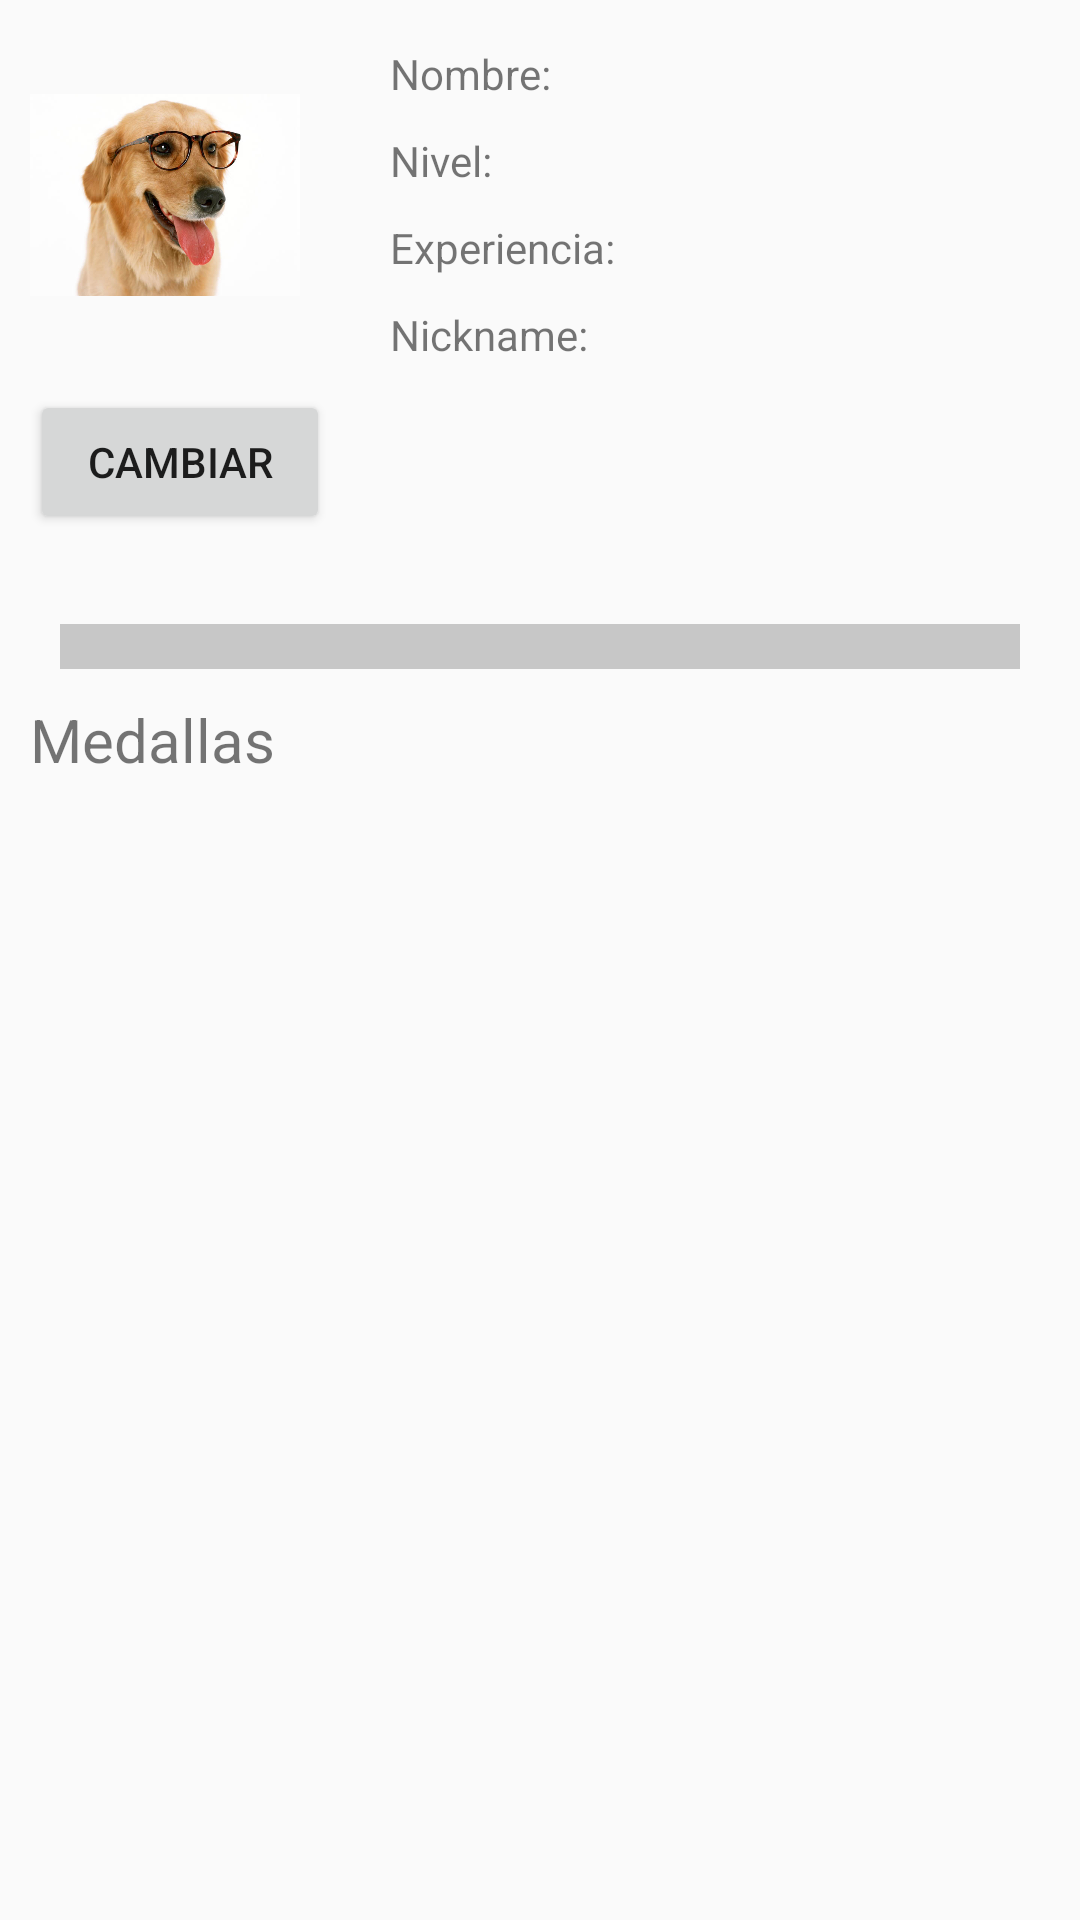

Named icons in this screenshot (1080px x 1920px) and their bounding boxes, (x1, y1, x2, y2):
perro: (77, 100, 241, 296)
